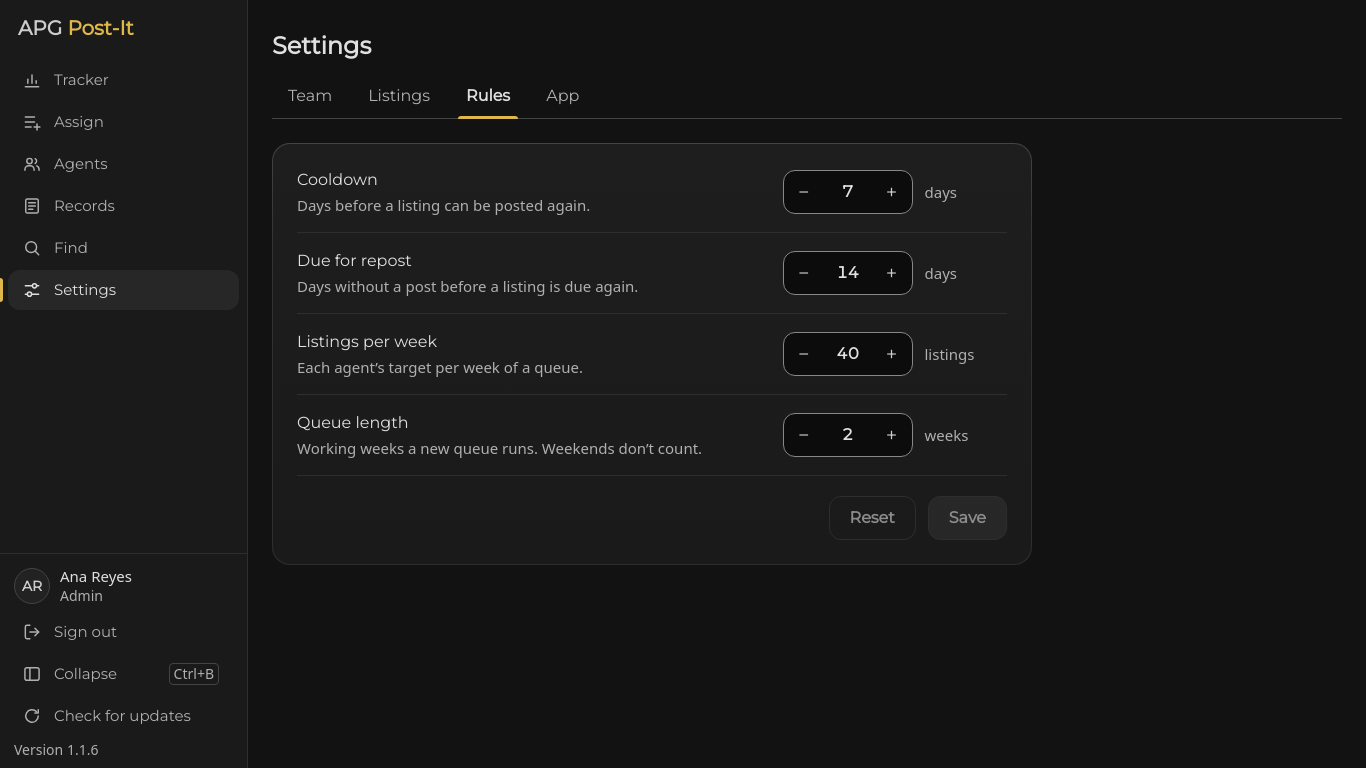
Test: Settings → Rules › reads perWeek from a v6 server, and saves it under that name
Check: the field labelled "Listings per week" holds "40", box [824,333,872,375]
Check: the text "Each agent’s target per week of a queue." is shown, box [297,357,583,377]
Click the button named "Fewer: Listings per week": (804, 354) [784,333,824,375]
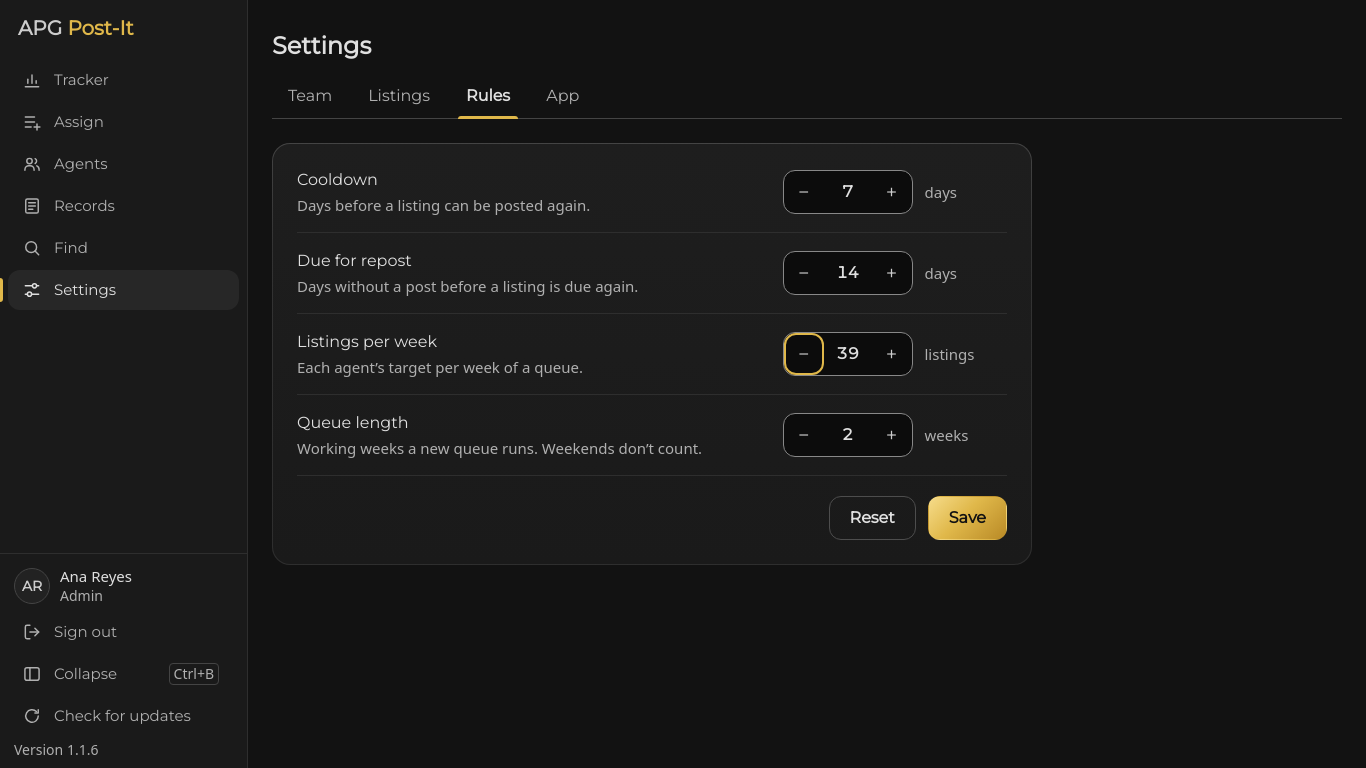
Click the button "Save": (967, 518) [928,496,1007,540]
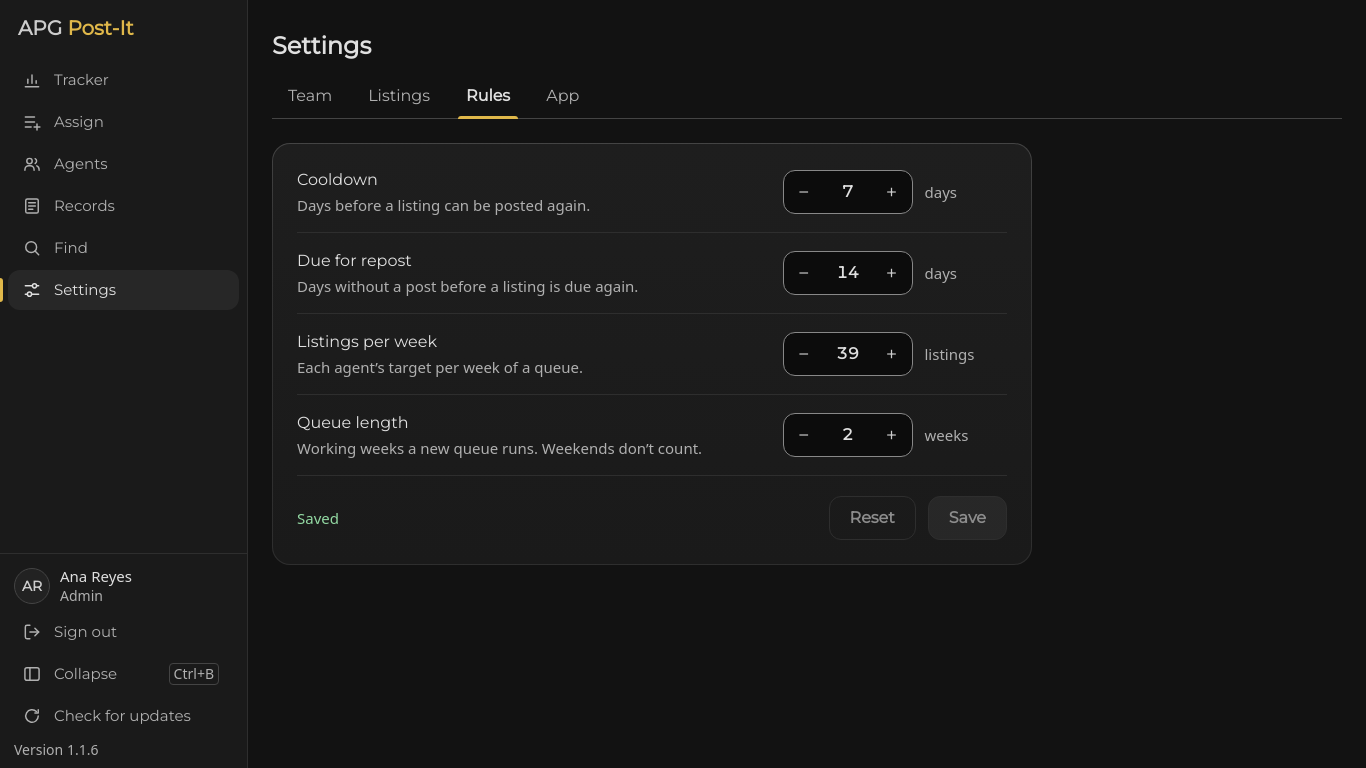
Check: the field labelled "Listings per week" holds "39", box [824,333,872,375]
Check: the text "Saved" is shown, box [297,507,339,529]
